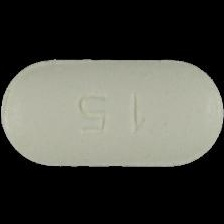10544-925: (0, 0, 224, 224)
